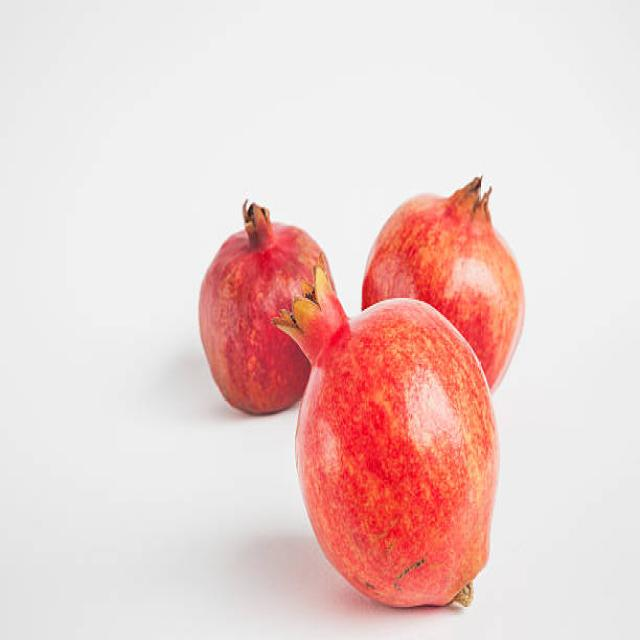Ripe: (273, 263, 502, 612), (359, 171, 525, 369), (195, 186, 322, 418)
